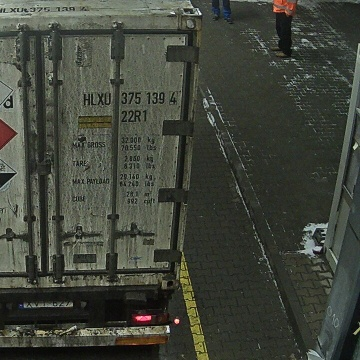serial_id: (84, 92, 176, 105)
